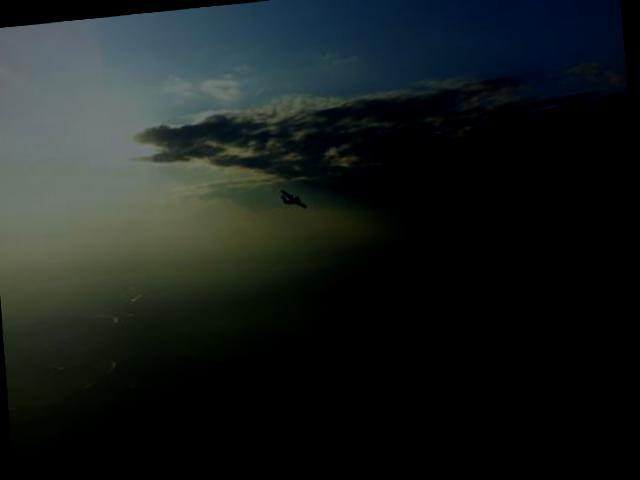uav: (281, 185, 310, 211)
